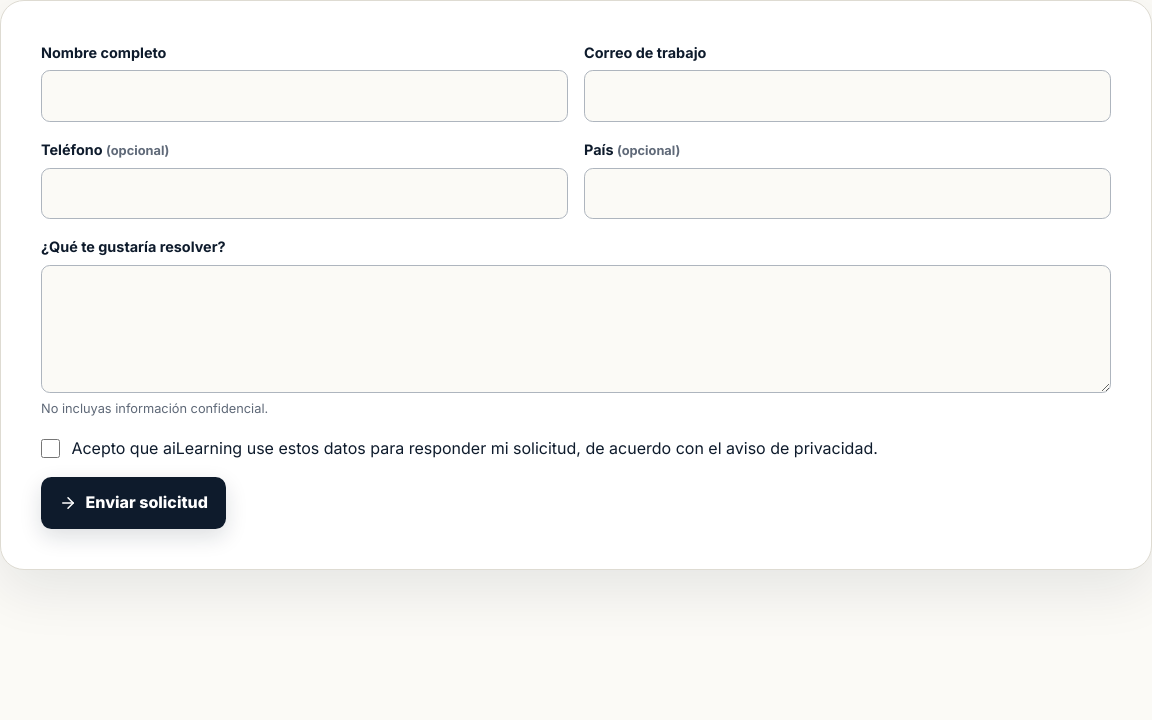
Scenario: LeadForm › muestra una recuperación clara cuando la solicitud expira
Type "Ana García" into the field labelled "Nombre completo".
click(304, 96); type("Ana García")  # box x1=41 y1=70 x2=568 y2=122
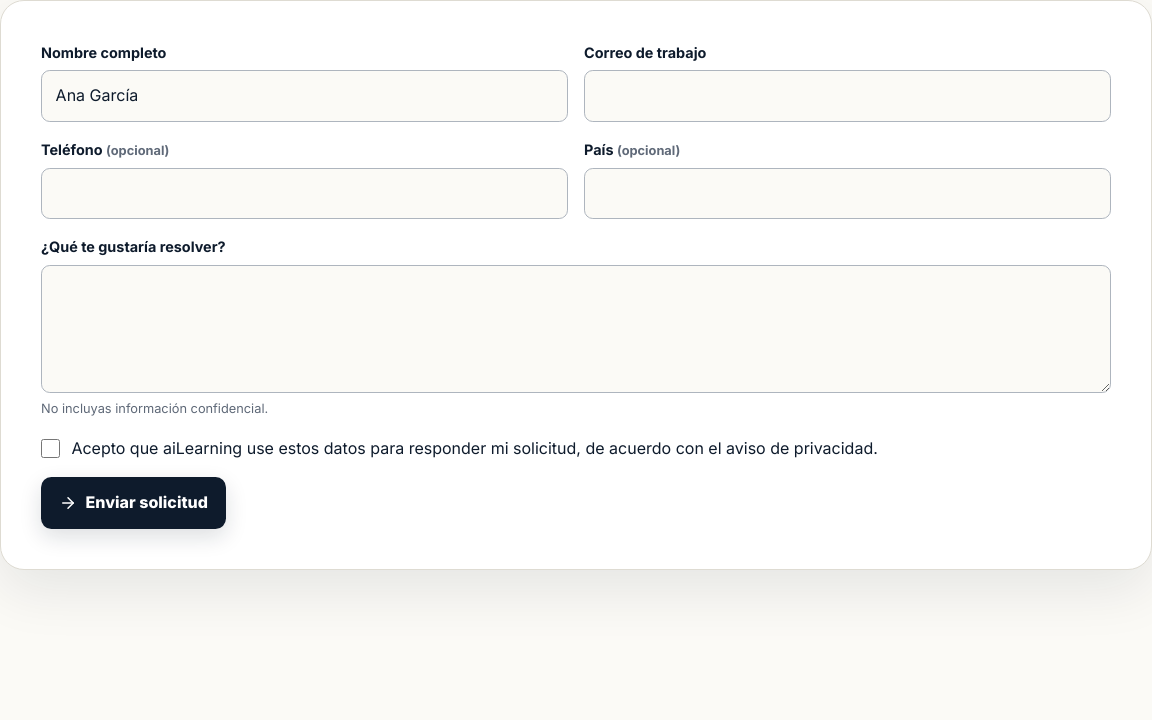
Type "ana@example.com" into the field labelled "Correo de trabajo".
click(848, 96); type("ana@example.com")  # box x1=584 y1=70 x2=1111 y2=122
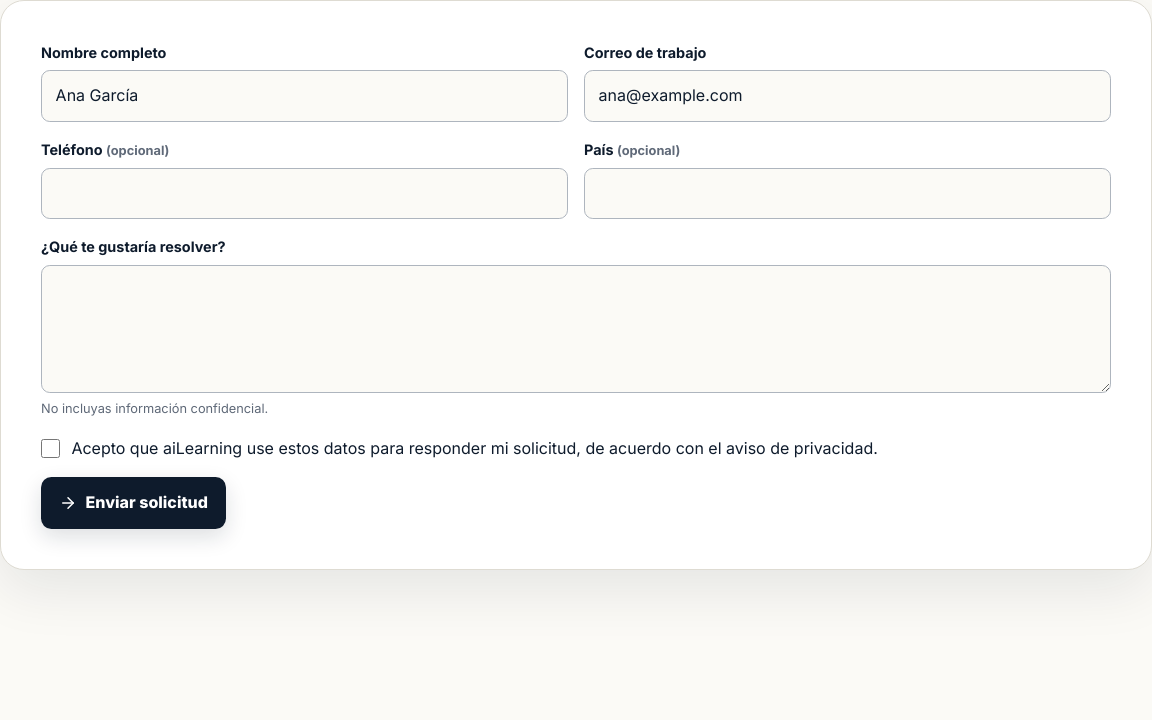
Type "Una tarea repetitiva" into the text box labelled "¿Qué te gustaría resolver?".
click(576, 329); type("Una tarea repetitiva")  # box x1=41 y1=265 x2=1111 y2=393
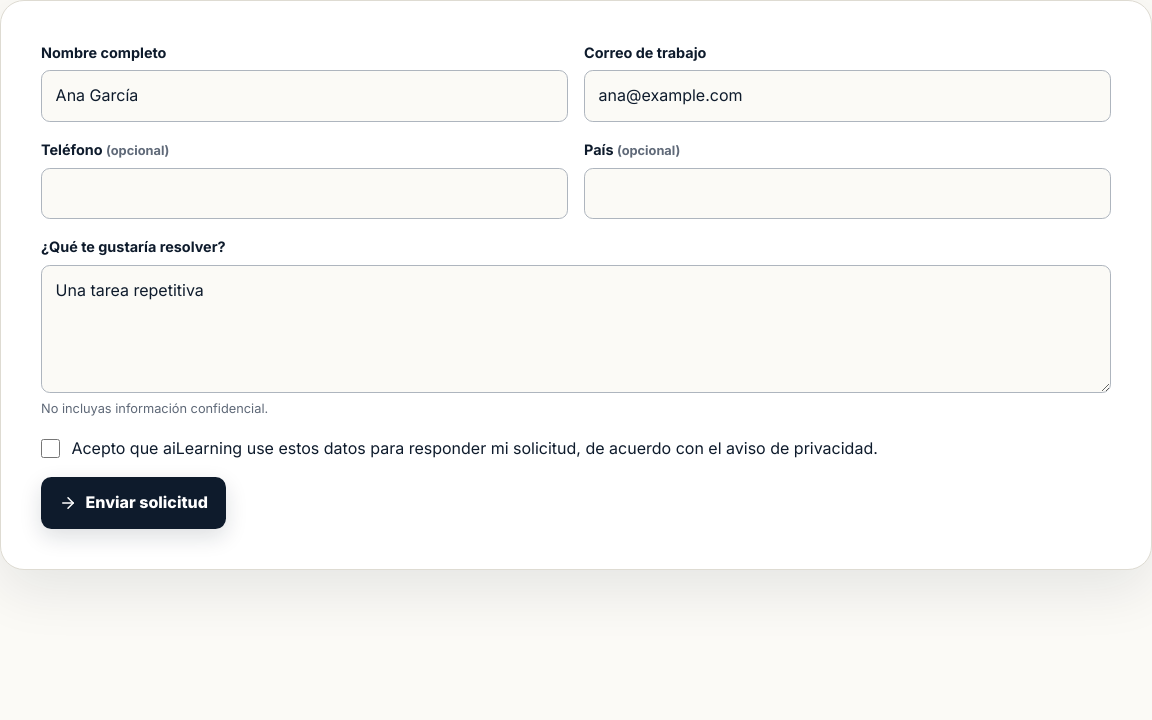
Click the checkbox.
click(51, 449)  # box x1=41 y1=439 x2=60 y2=458
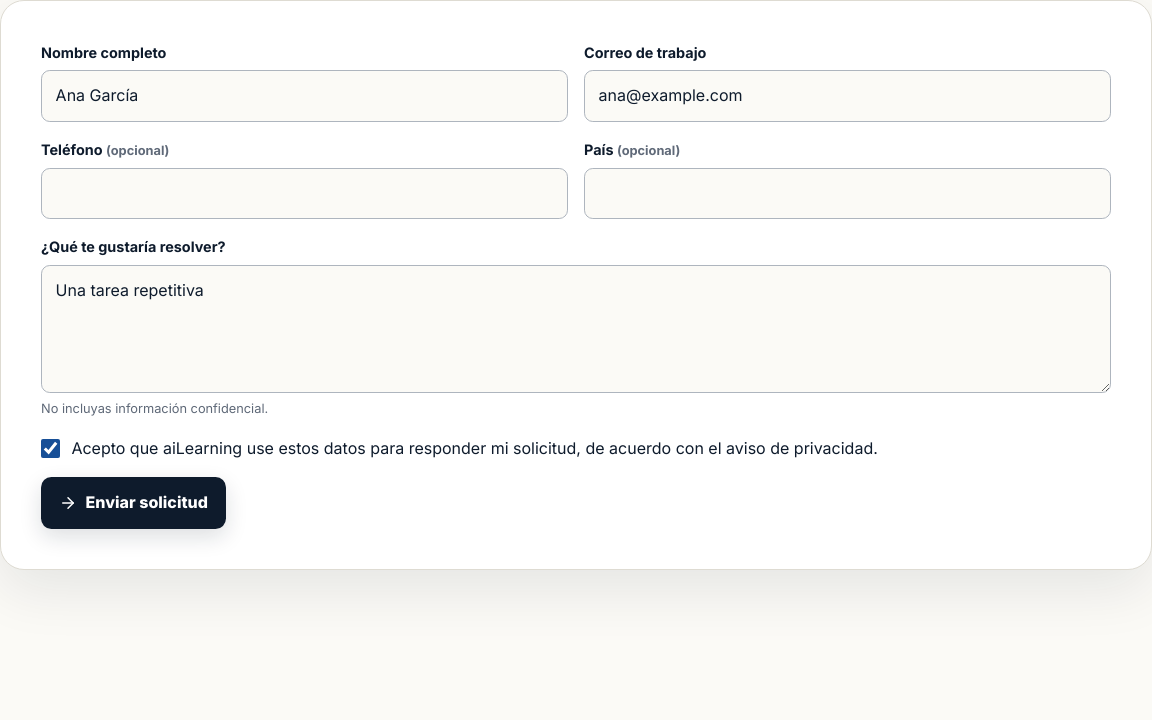
Click the button "Enviar solicitud".
click(133, 503)  # box x1=41 y1=477 x2=226 y2=529
Wait 10000 ms
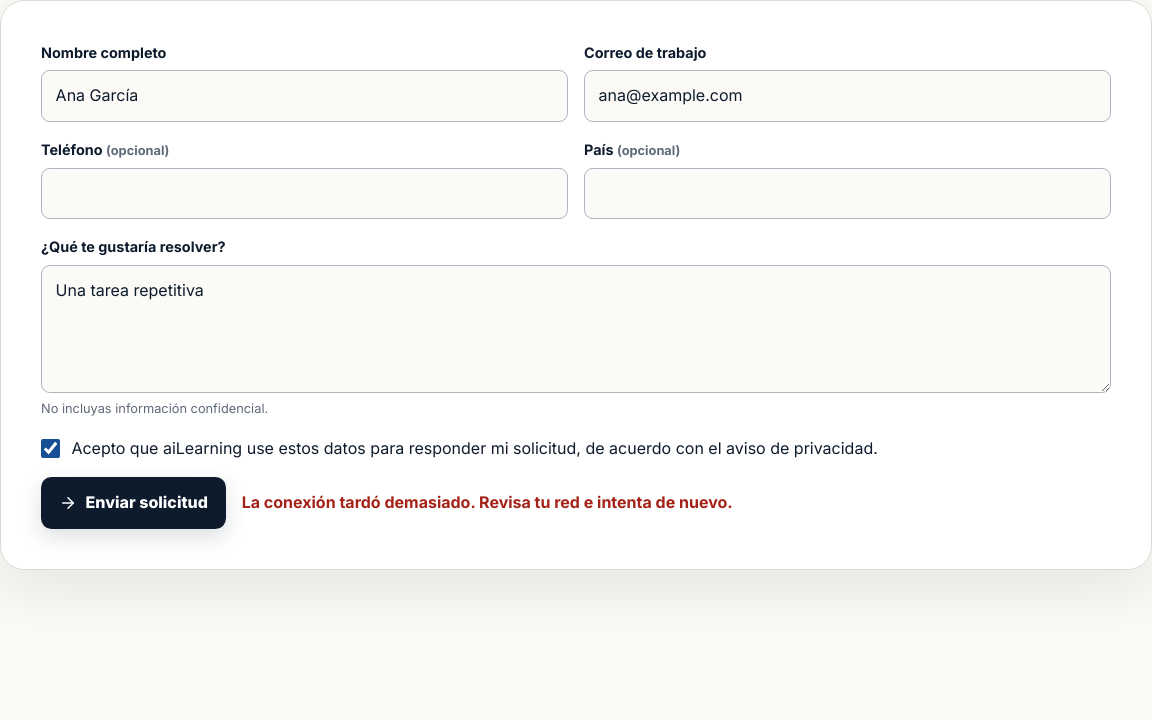
Now the message shows "La conexión tardó demasiado", box x1=242 y1=492 x2=733 y2=512
